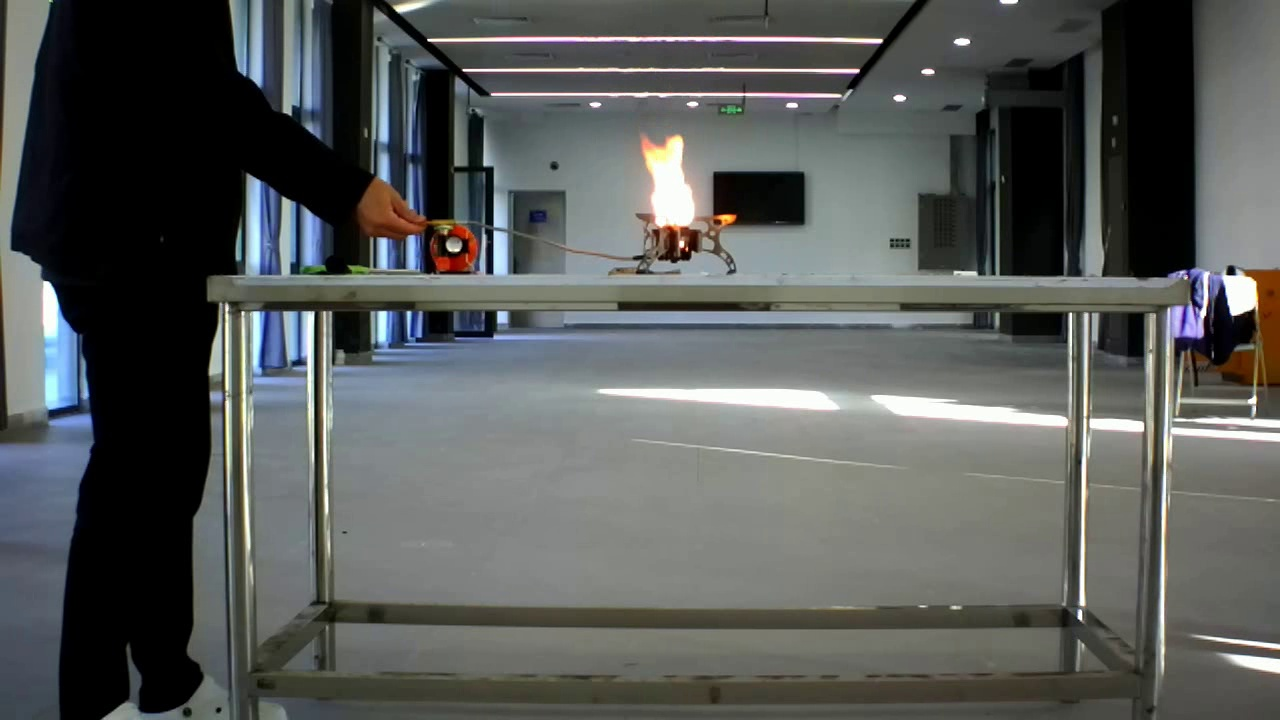Fire: (622, 126, 743, 261)
